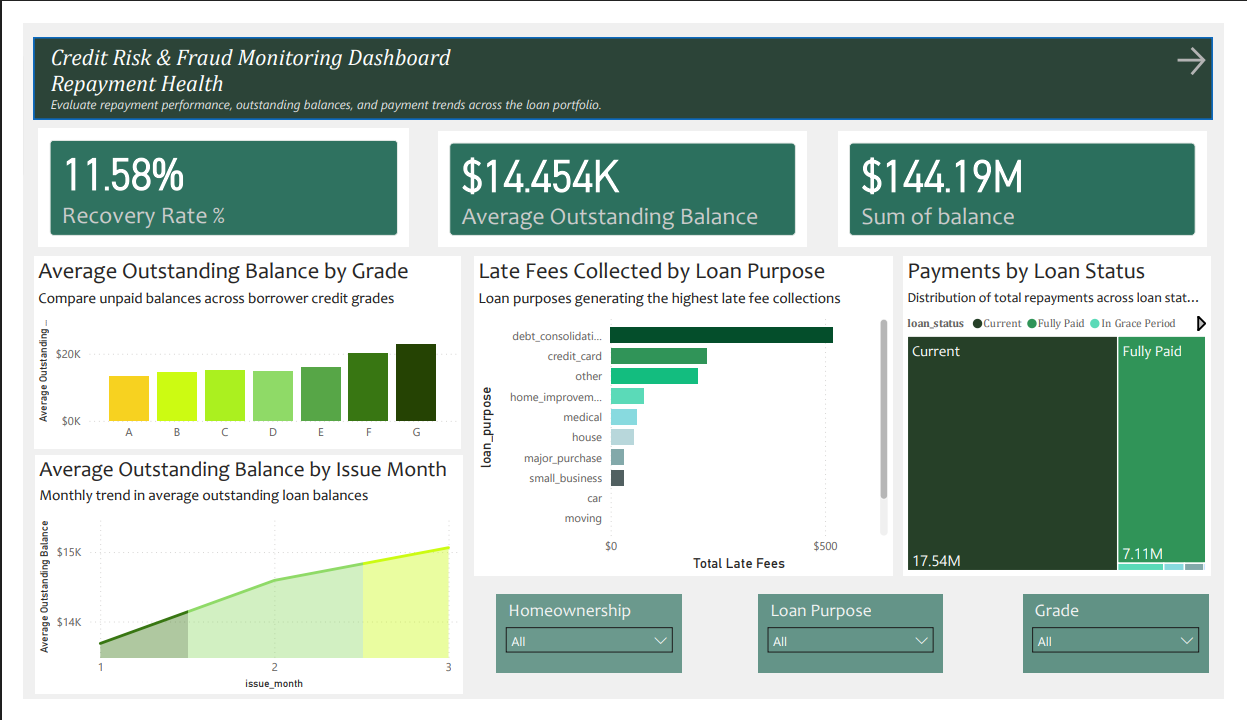

This screenshot's page, from the dashboard's own definition file:
{"tool":"powerbi","page":{"name":"Repayment Health","canvas":[1280,720],"ordinal":2},"visuals":[{"type":"shape","box":[11,15.1,1255.6,86.4],"z":0},{"type":"textbox","box":[24,16,1242,86],"z":1000},{"type":"cardVisual","fields":{"Data":["_Measures.Recovery Rate %"]},"box":[11.4,107.1,404.3,135.7],"z":2000},{"type":"clusteredColumnChart","title":"Average Outstanding Balance by Grade","fields":{"Category":["public dim_grade.grade"],"Y":["_Measures.Average Outstanding Balance"]},"box":[11.2,247.5,455,205],"z":3000},{"type":"cardVisual","fields":{"Data":["_Measures.Average Outstanding Balance"]},"box":[437.1,110,402.9,132.9],"z":4000},{"type":"cardVisual","fields":{"Data":["Sum(public fact_loans.balance)"]},"box":[862.9,110,402.9,132.9],"z":5000},{"type":"barChart","title":"Late Fees Collected by Loan Purpose","fields":{"Category":["public fact_loans.loan_purpose"],"Y":["_Measures.Total Late Fees"],"Series":["public fact_loans.loan_purpose"]},"box":[480,248,446,340],"z":6000},{"type":"treemap","title":"Payments by Loan Status","fields":{"Group":["public fact_loans.loan_status"],"Values":["Sum(public fact_loans.paid_total)"]},"box":[936.7,248.3,328.3,340],"z":7000},{"type":"slicer","fields":{"Values":["public dim_grade.grade"]},"box":[1065,608.3,198.3,83.3],"z":8000},{"type":"slicer","fields":{"Values":["public vw_fraud_signals.homeownership"]},"box":[504,608,198,84],"z":9000},{"type":"slicer","fields":{"Values":["public vw_fraud_signals.loan_purpose"]},"box":[783.3,608.3,196.7,83.3],"z":10000},{"type":"areaChart","title":"Average Outstanding Balance by Issue Month","fields":{"Category":["public dim_time.issue_month"],"Y":["_Measures.Average Outstanding Balance"]},"box":[12,460,456,254],"z":11000},{"type":"actionButton","box":[1224,20,42,40],"z":11001}]}

Visuals, with their boxes in screenshot pixels (x1, y1, x2, y2), scaled from the page's 1280x720 canvas onto the 1247x720 screenshot:
shape: bbox=(11, 15, 1234, 102)
textbox: bbox=(23, 16, 1233, 102)
cardVisual - _Measures.Recovery Rate %: bbox=(11, 107, 405, 243)
"Average Outstanding Balance by Grade" clusteredColumnChart: bbox=(11, 248, 454, 452)
cardVisual - _Measures.Average Outstanding Balance: bbox=(426, 110, 818, 243)
cardVisual - Sum(public fact_loans.balance): bbox=(841, 110, 1233, 243)
"Late Fees Collected by Loan Purpose" barChart: bbox=(468, 248, 902, 588)
"Payments by Loan Status" treemap: bbox=(913, 248, 1232, 588)
slicer - public dim_grade.grade: bbox=(1038, 608, 1231, 692)
slicer - public vw_fraud_signals.homeownership: bbox=(491, 608, 684, 692)
slicer - public vw_fraud_signals.loan_purpose: bbox=(763, 608, 955, 692)
"Average Outstanding Balance by Issue Month" areaChart: bbox=(12, 460, 456, 714)
actionButton: bbox=(1192, 20, 1233, 60)
